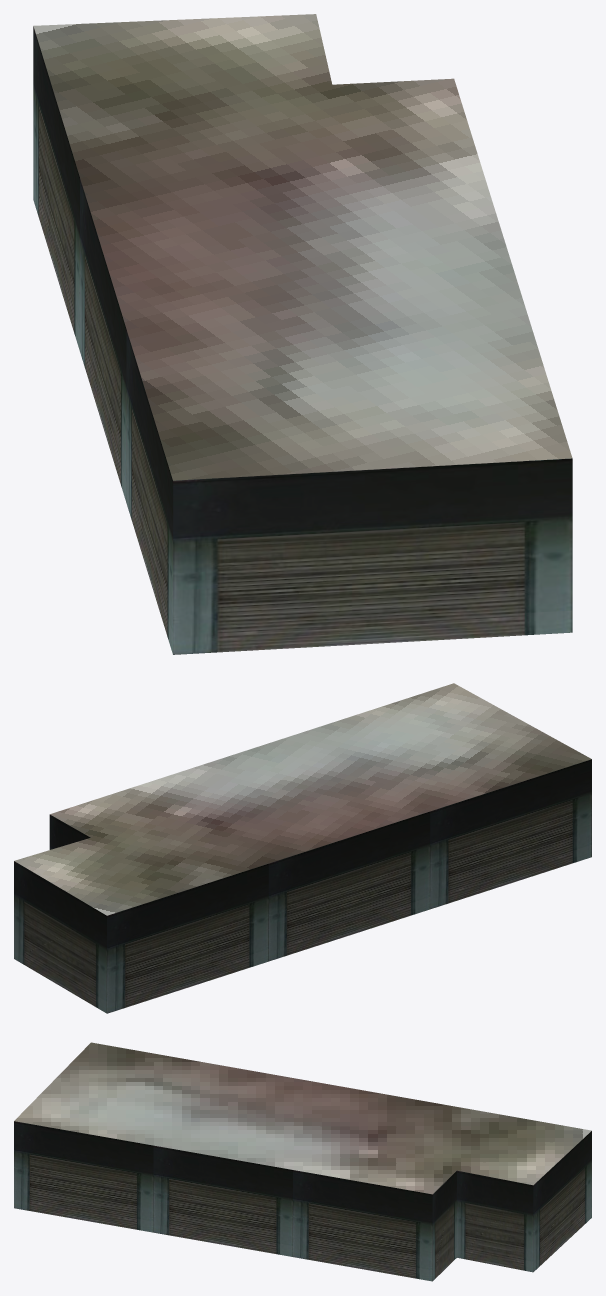
Rendered from E_1SHDD4PJK1.dae.
The picture shows the model from 3 angles, top to bottom: view 1: azimuth 30°, elevation 25°; view 2: azimuth 150°, elevation 25°; view 3: azimuth 270°, elevation 25°; orthographic projection. The views are drawn at different scales.
Parts seen in each view (by area): view 1: SketchUp (×3); view 2: SketchUp (×4); view 3: SketchUp (×5).
Part boxes in pixels (<box>): SketchUp (×3): <box>33,14,572,654</box>; SketchUp (×4): <box>14,683,591,1013</box>; SketchUp (×5): <box>14,1042,591,1281</box>.
Size of the model in its own units: 9.68 by 15.57 by 2.59.
Materials: 2 (2 with a texture image).
